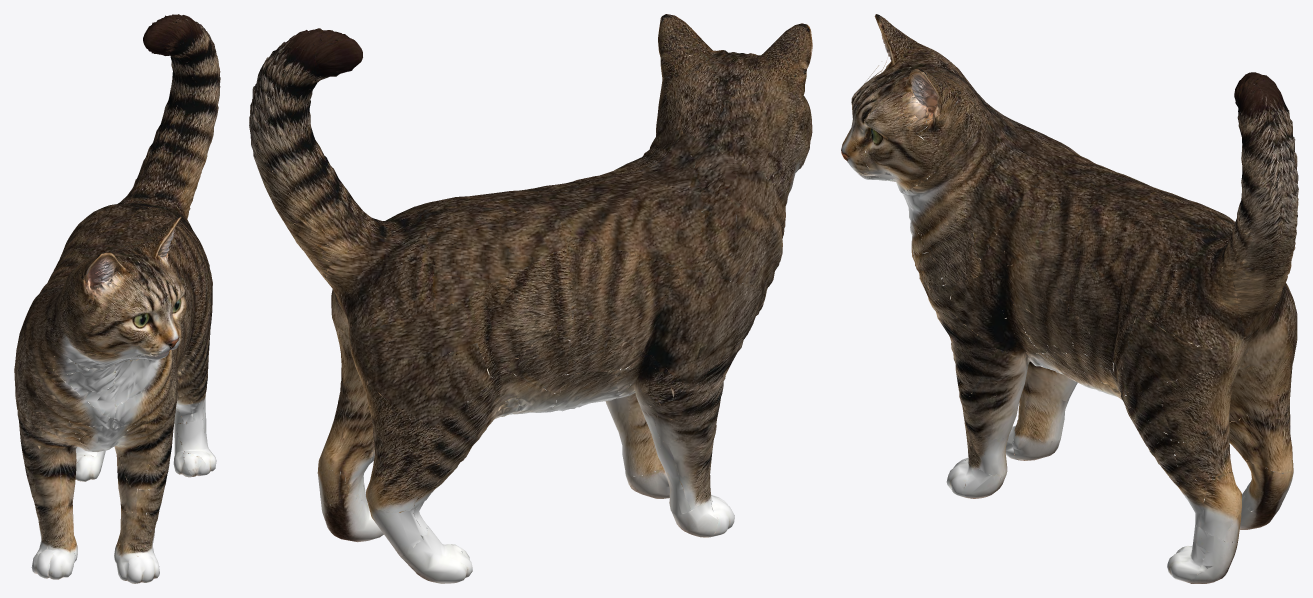
Rendered from cat.glb.
The picture shows the model from 3 angles, left to right: view 1: azimuth 30°, elevation 25°; view 2: azimuth 150°, elevation 25°; view 3: azimuth 270°, elevation 25°; orthographic projection. The views are drawn at different scales.
Visible parts, largest first — view 1: cat; view 2: cat; view 3: cat.
Boxes of the visible parts, <box> form: cat: <box>14,14,220,583</box>; cat: <box>249,14,812,583</box>; cat: <box>841,14,1298,583</box>.
Bounding box in the file's own units: 0.3734 × 0.4999 × 0.4146.
1 material, 1 textured.
